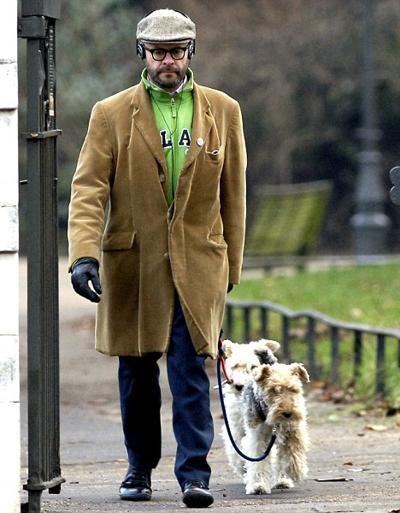person: (67, 10, 246, 505)
